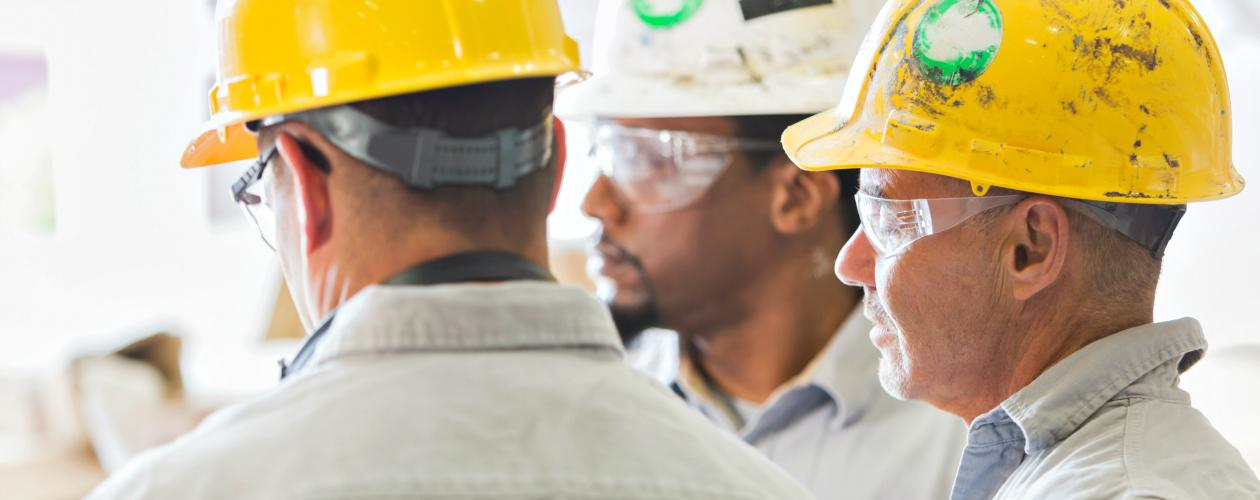helmet: (787, 1, 1256, 200), (174, 1, 581, 179), (574, 1, 871, 127)
